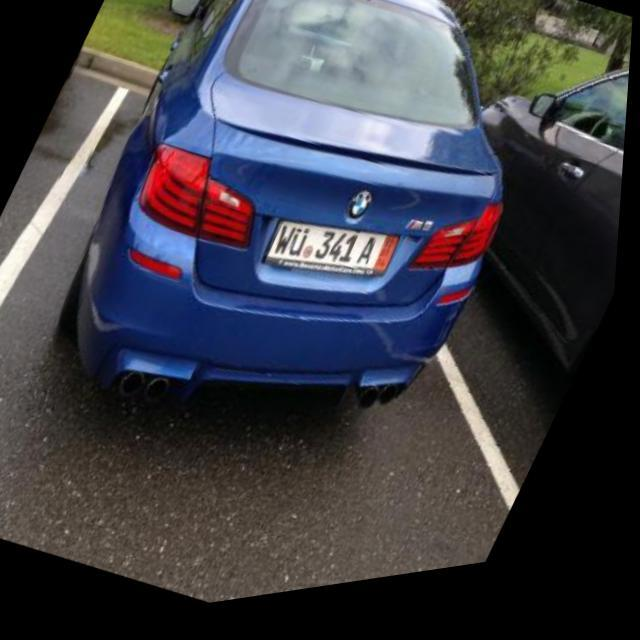license_plate: (261, 196, 410, 324)
